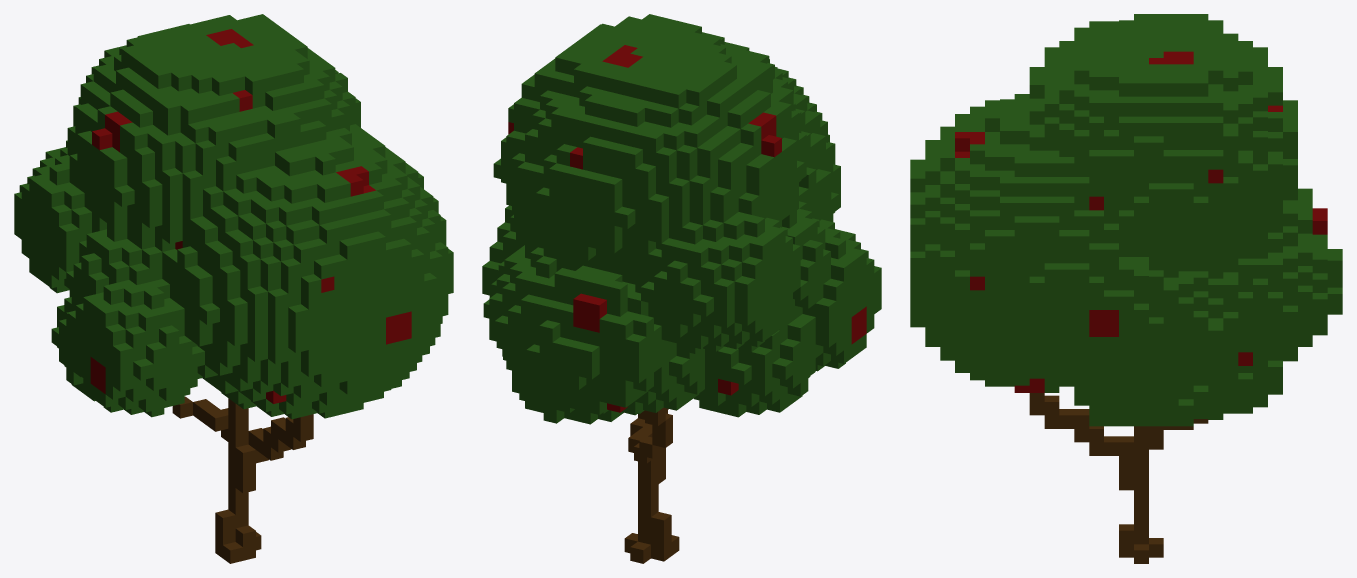
Rendered from bush3.obj.
The picture shows the model from 3 angles, left to right: view 1: azimuth 30°, elevation 25°; view 2: azimuth 150°, elevation 25°; view 3: azimuth 270°, elevation 25°; orthographic projection.
Size of the model in its own units: 2.5 by 3.7 by 2.9.
1 material, 1 textured.
